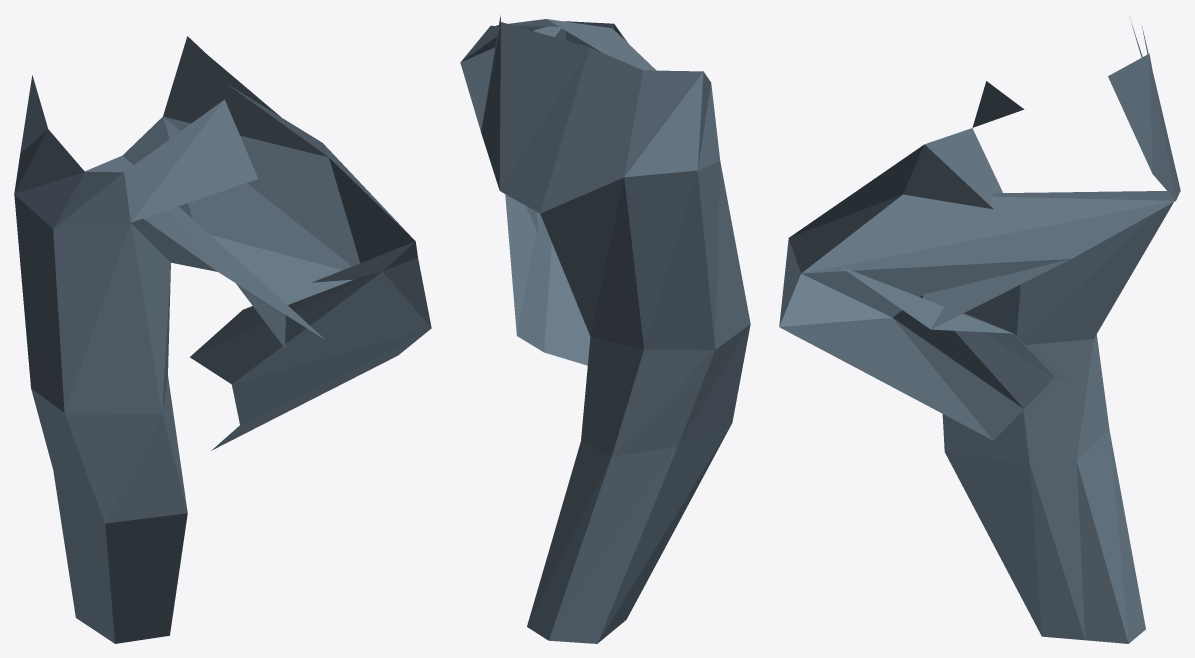
The picture shows the model from 3 angles, left to right: view 1: azimuth 30°, elevation 25°; view 2: azimuth 150°, elevation 25°; view 3: azimuth 270°, elevation 25°; orthographic projection. The views are drawn at different scales.
Size of the model in its own units: 0.6 by 1.19 by 0.7229.
Materials: 1 (1 with a texture image).
